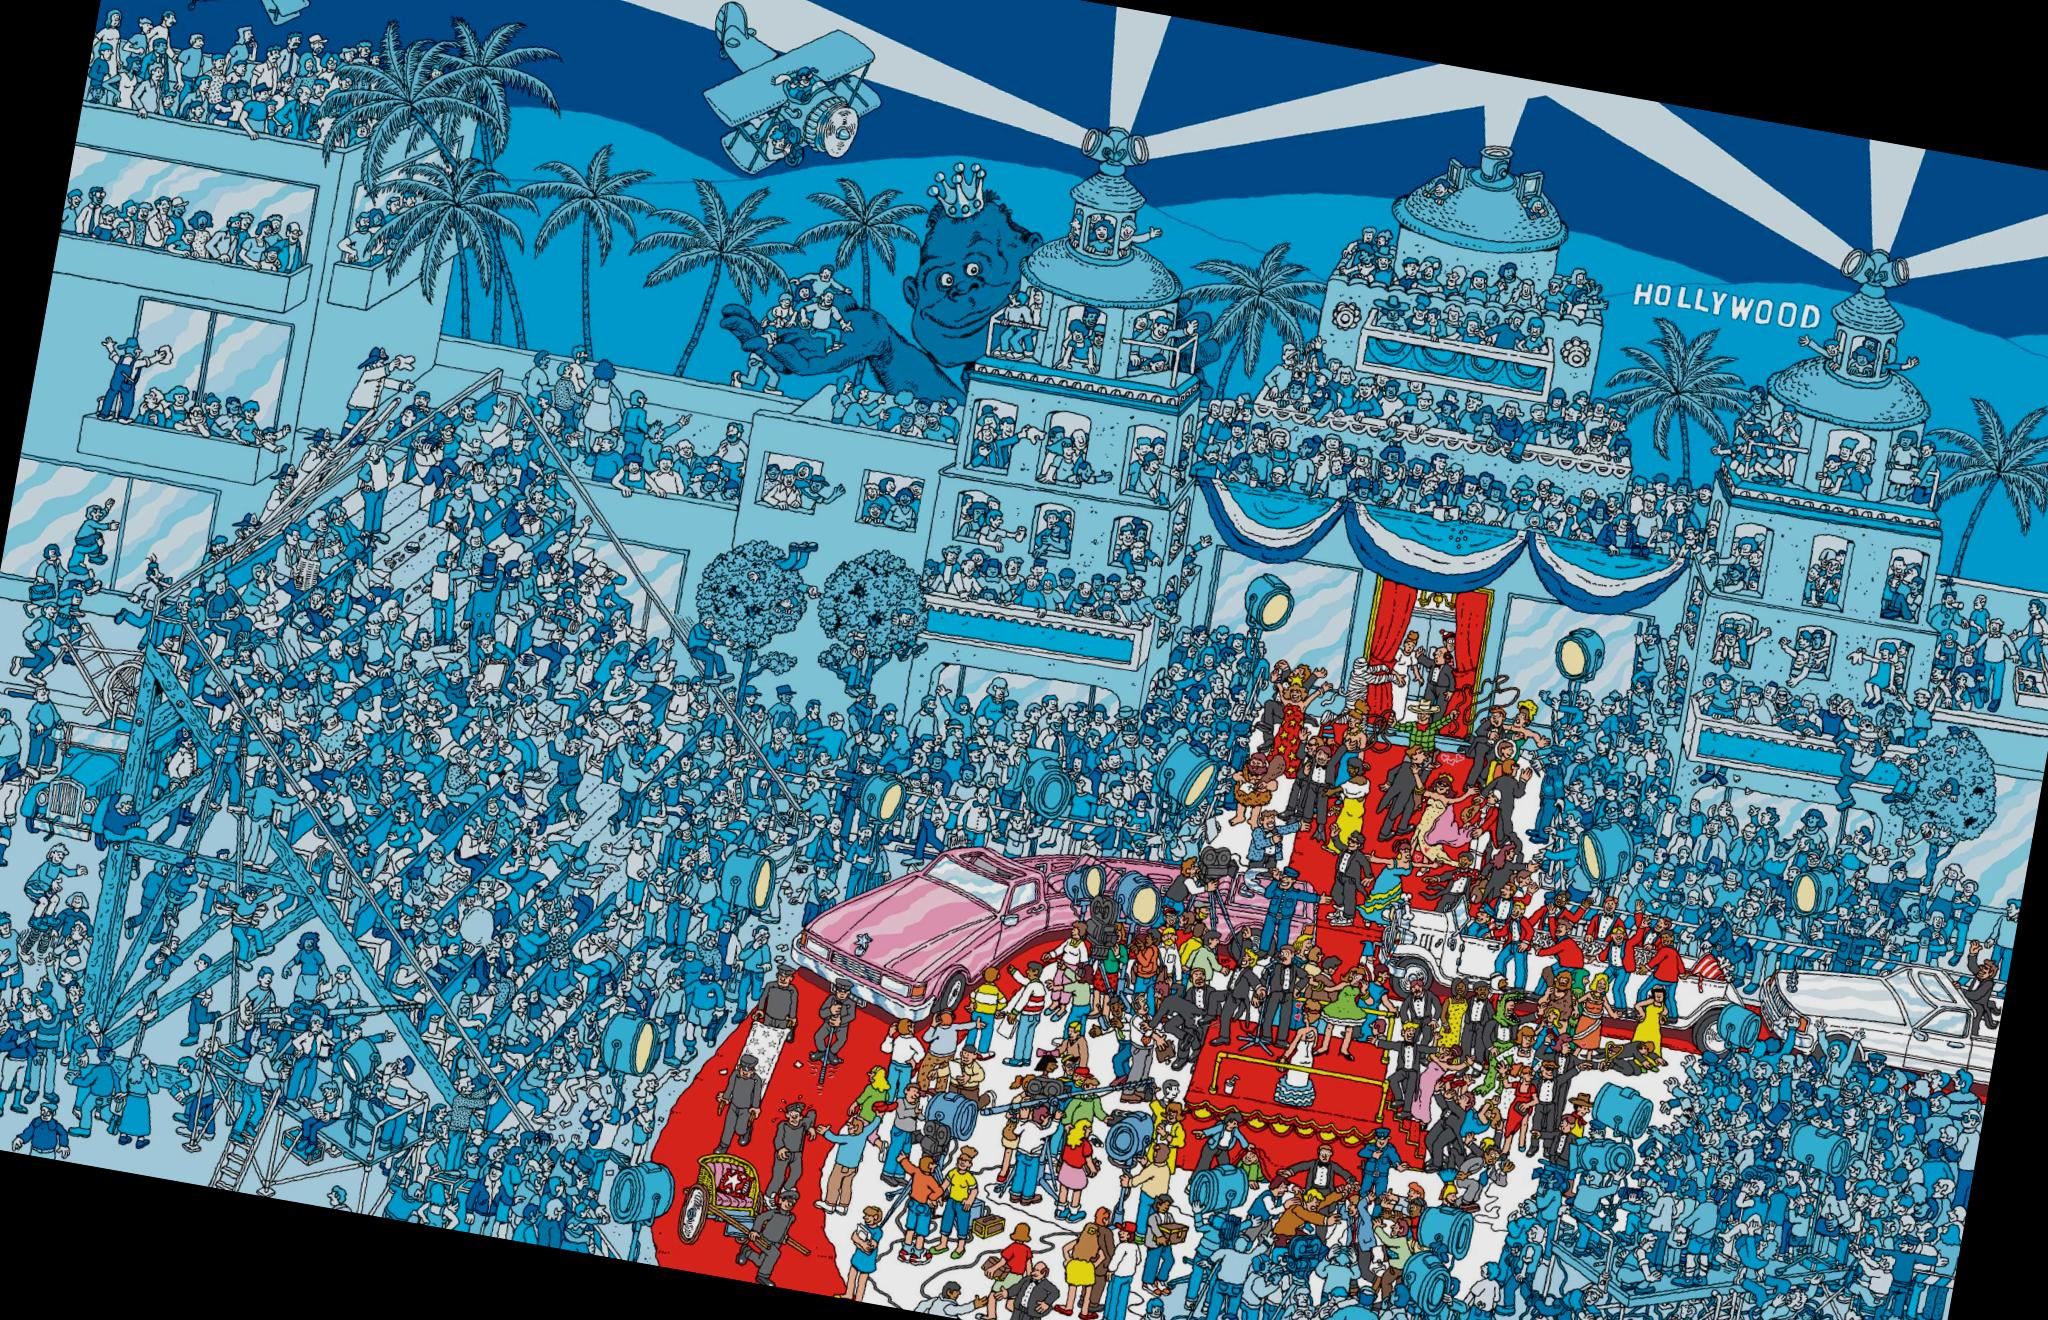waldo: (1436, 629, 1457, 653)
